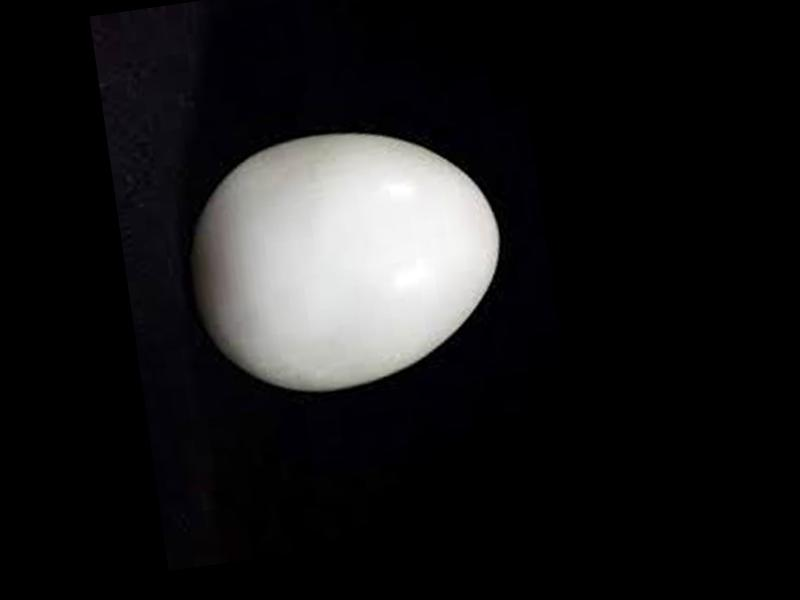Eggs: (171, 114, 514, 404)
